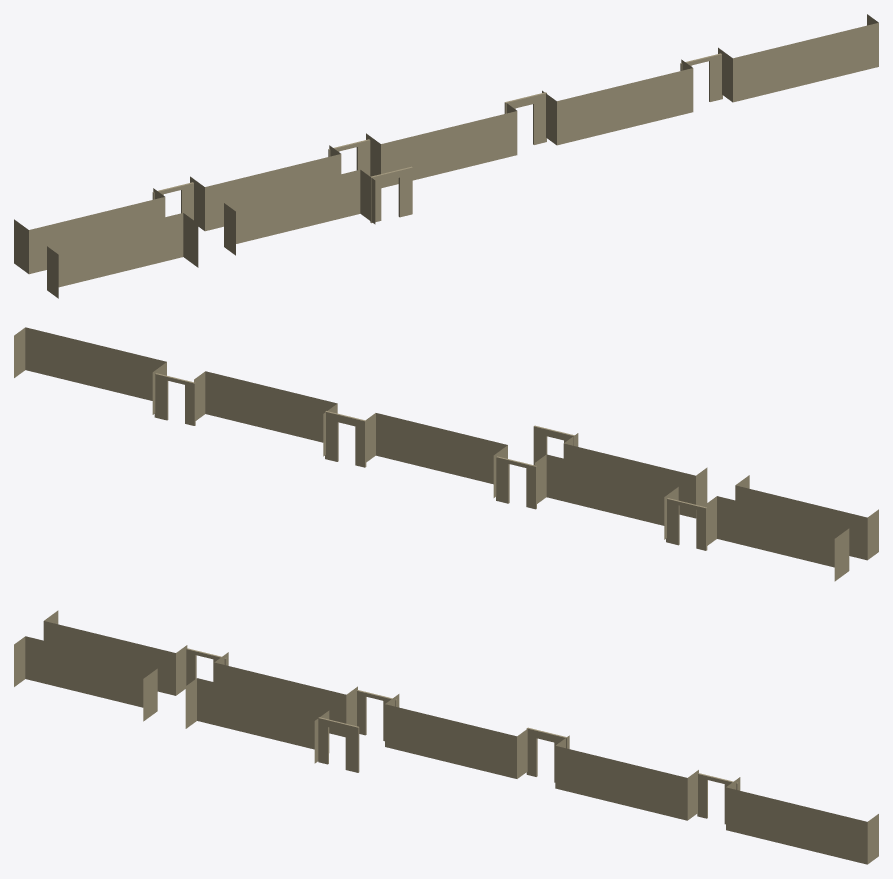
File: OtherWalls.fbx
3 views of the same model, one above another, from view 1: azimuth 30°, elevation 25°; view 2: azimuth 150°, elevation 25°; view 3: azimuth 330°, elevation 25° (orthographic). The views are drawn at different scales.
Visible parts, largest first — view 1: Cube.006; view 2: Cube.006; view 3: Cube.006.
Boxes of the visible parts, x1,y1,x2,y2 form: Cube.006: (14, 14, 878, 298); Cube.006: (14, 327, 878, 581); Cube.006: (14, 610, 878, 864).
Bounding box in the file's own units: 4775 × 263 × 470.
